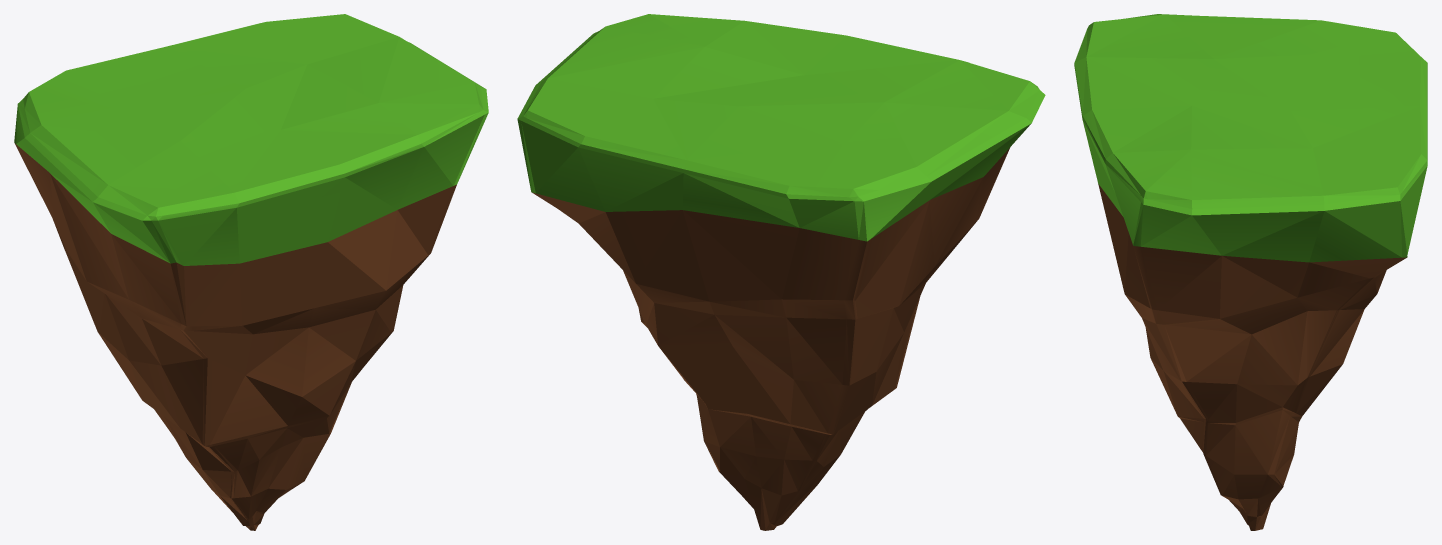
Rendered from Terrain_herbe_vf.FBX.
3 renders of one model, left to right at view 1: azimuth 30°, elevation 25°; view 2: azimuth 150°, elevation 25°; view 3: azimuth 270°, elevation 25°, orthographic. The views are drawn at different scales.
Parts seen in each view (by area): view 1: Box001; view 2: Box001; view 3: Box001.
Part boxes in pixels (bbox=[...]): Box001: bbox=[14, 14, 488, 530]; Box001: bbox=[517, 14, 1045, 530]; Box001: bbox=[1074, 14, 1427, 530].
Bounding box in the file's own units: 1033 × 1026 × 770.
1 material, 1 textured.
